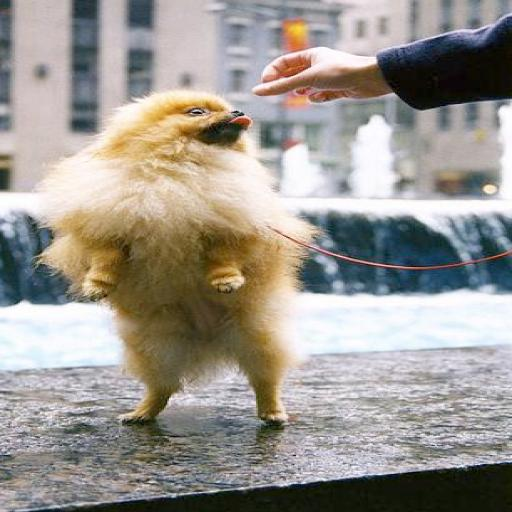dog_face: (127, 92, 256, 149)
